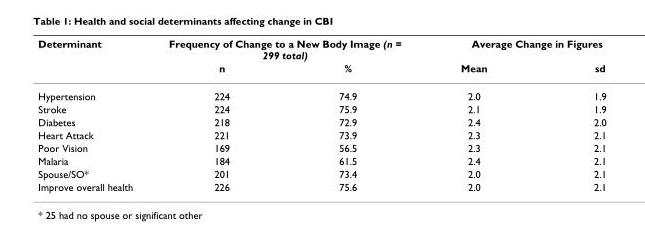table: (37, 37, 605, 192)
table column: (283, 37, 430, 192), (150, 37, 283, 192), (37, 37, 150, 192), (430, 37, 539, 192), (539, 37, 605, 192)
table column header: (37, 37, 605, 81)
table row: (37, 37, 605, 61), (37, 81, 605, 102), (37, 61, 605, 81), (37, 102, 605, 115), (37, 115, 605, 128), (37, 128, 605, 141), (37, 141, 605, 154), (37, 166, 605, 179), (37, 179, 605, 192), (37, 154, 605, 166)
table spanning cell: (150, 37, 430, 61), (37, 37, 150, 81), (430, 37, 605, 61)
